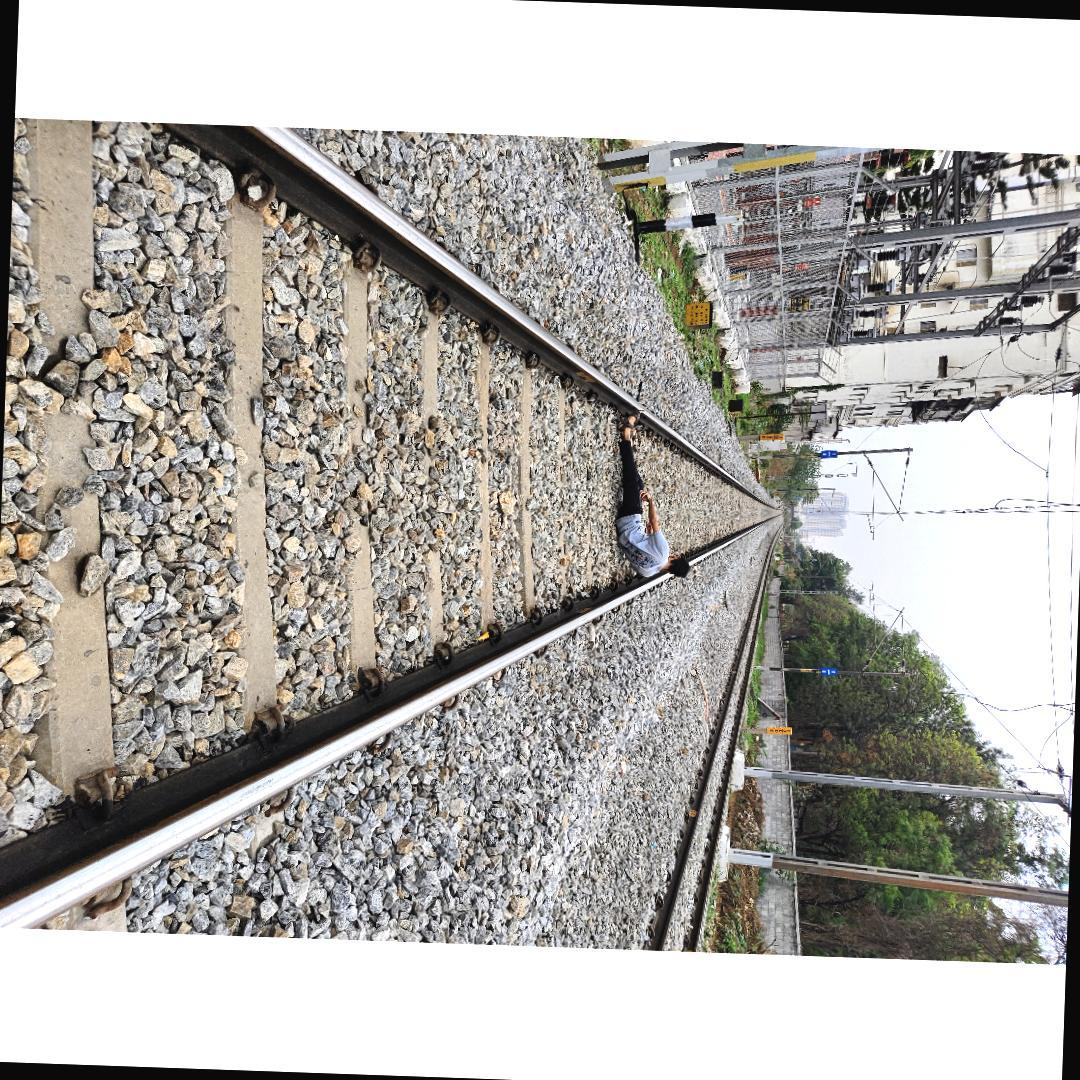sleeping: (611, 412, 696, 580)
track: (0, 116, 802, 932)
